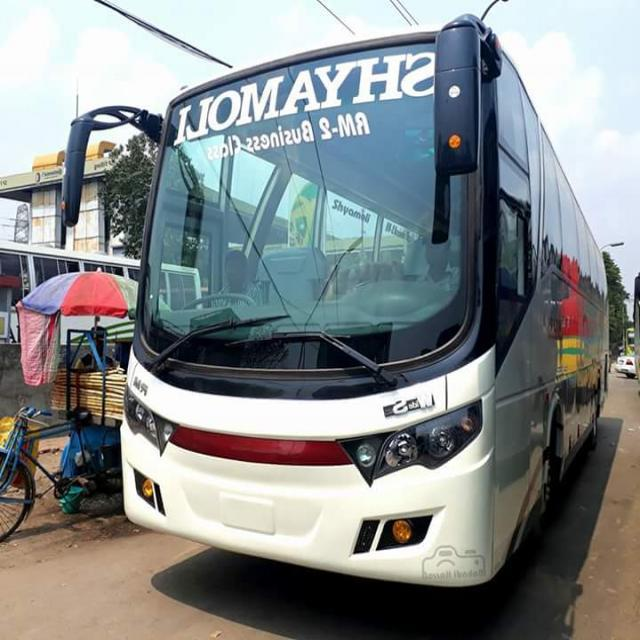Bus: (84, 0, 608, 592)
